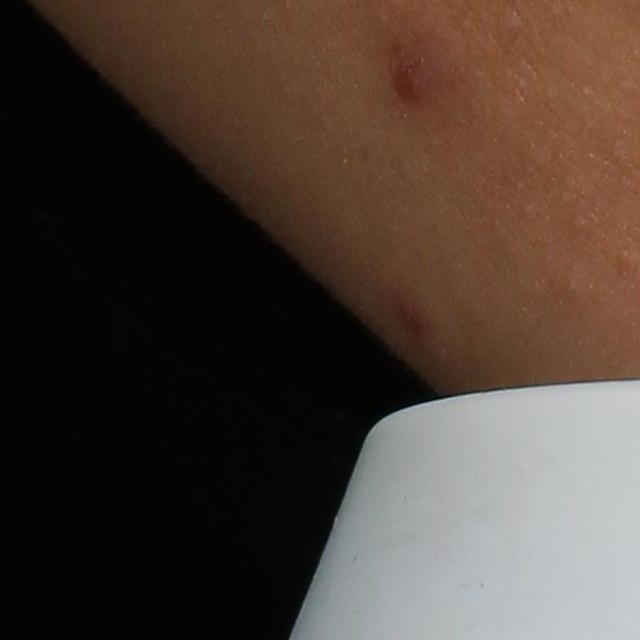comedo: (569, 212, 589, 234)
papule: (387, 287, 429, 336), (387, 59, 426, 107)
